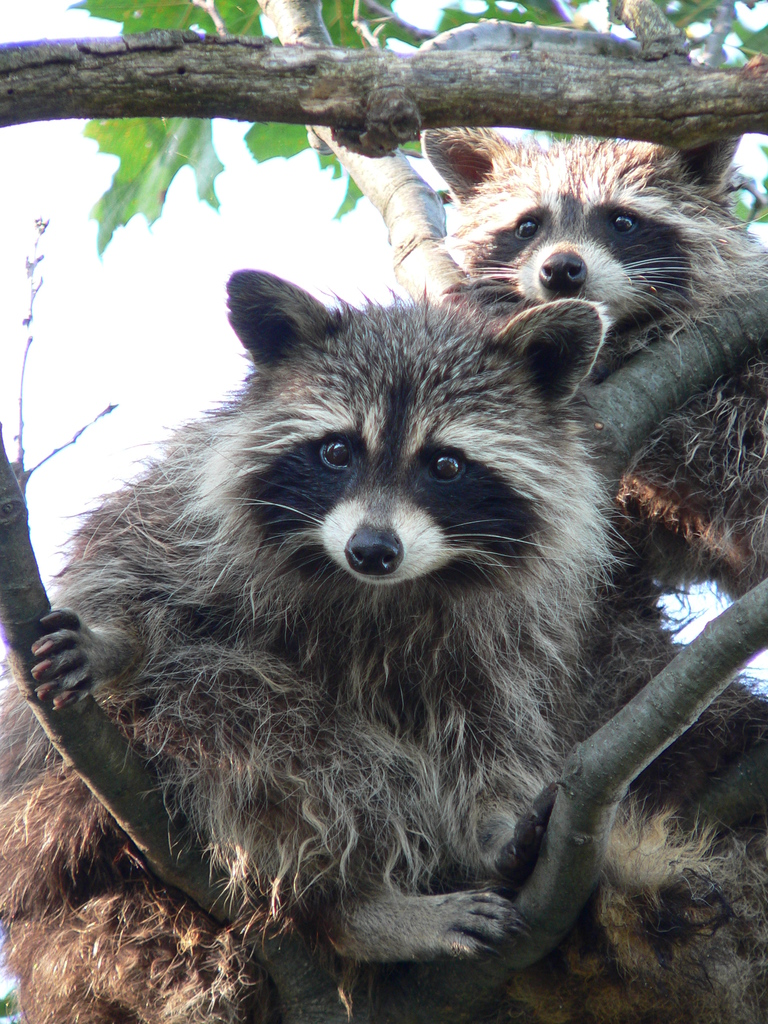raccoon: (2, 268, 619, 958), (418, 126, 768, 326)
